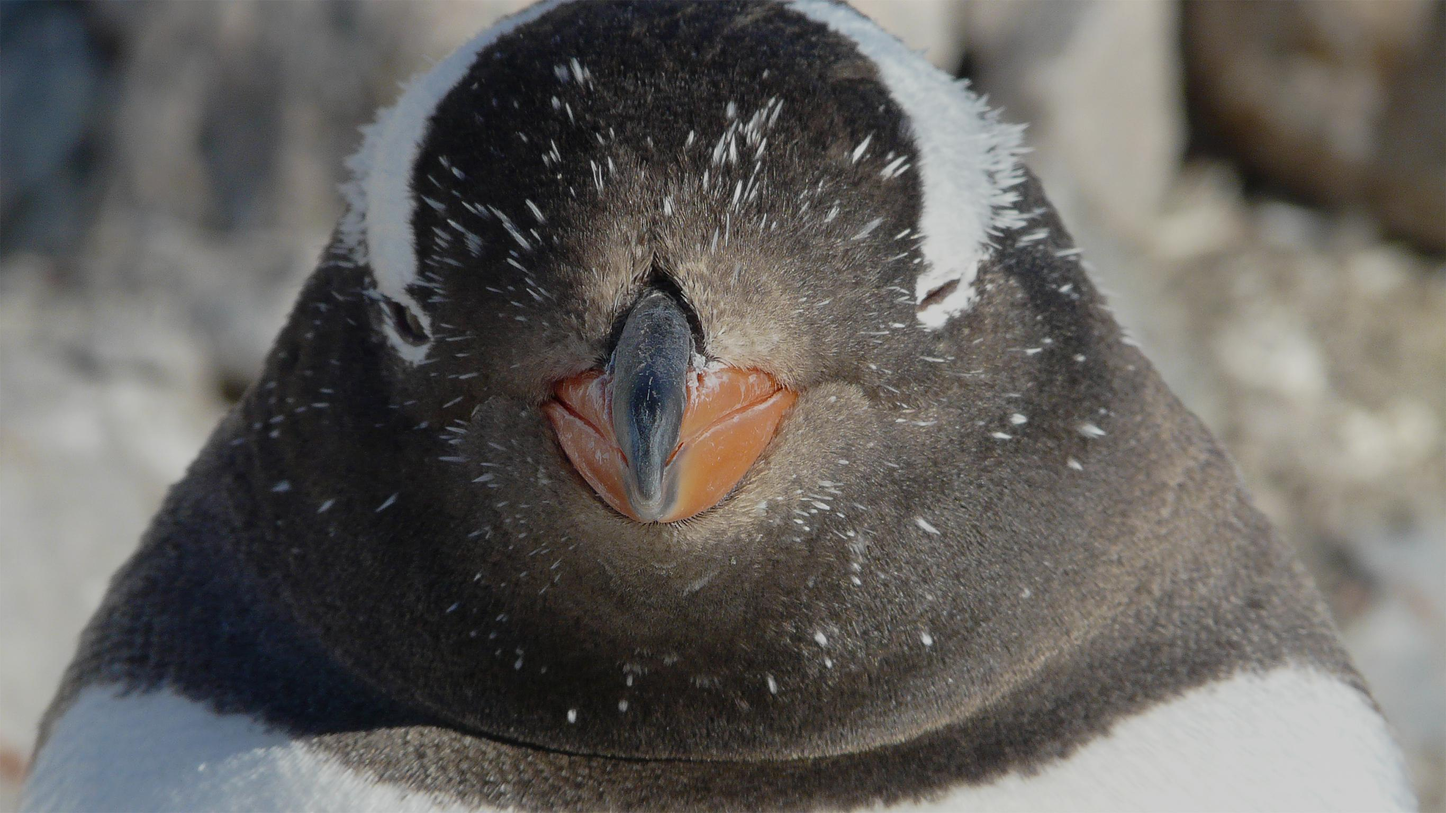Penguin: (23, 3, 1415, 810)
